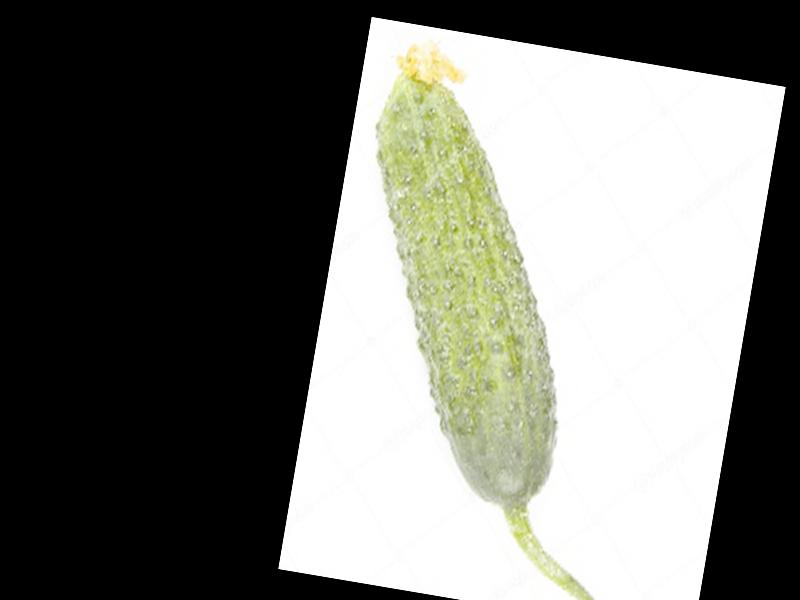Cucumber: (301, 32, 683, 600)
